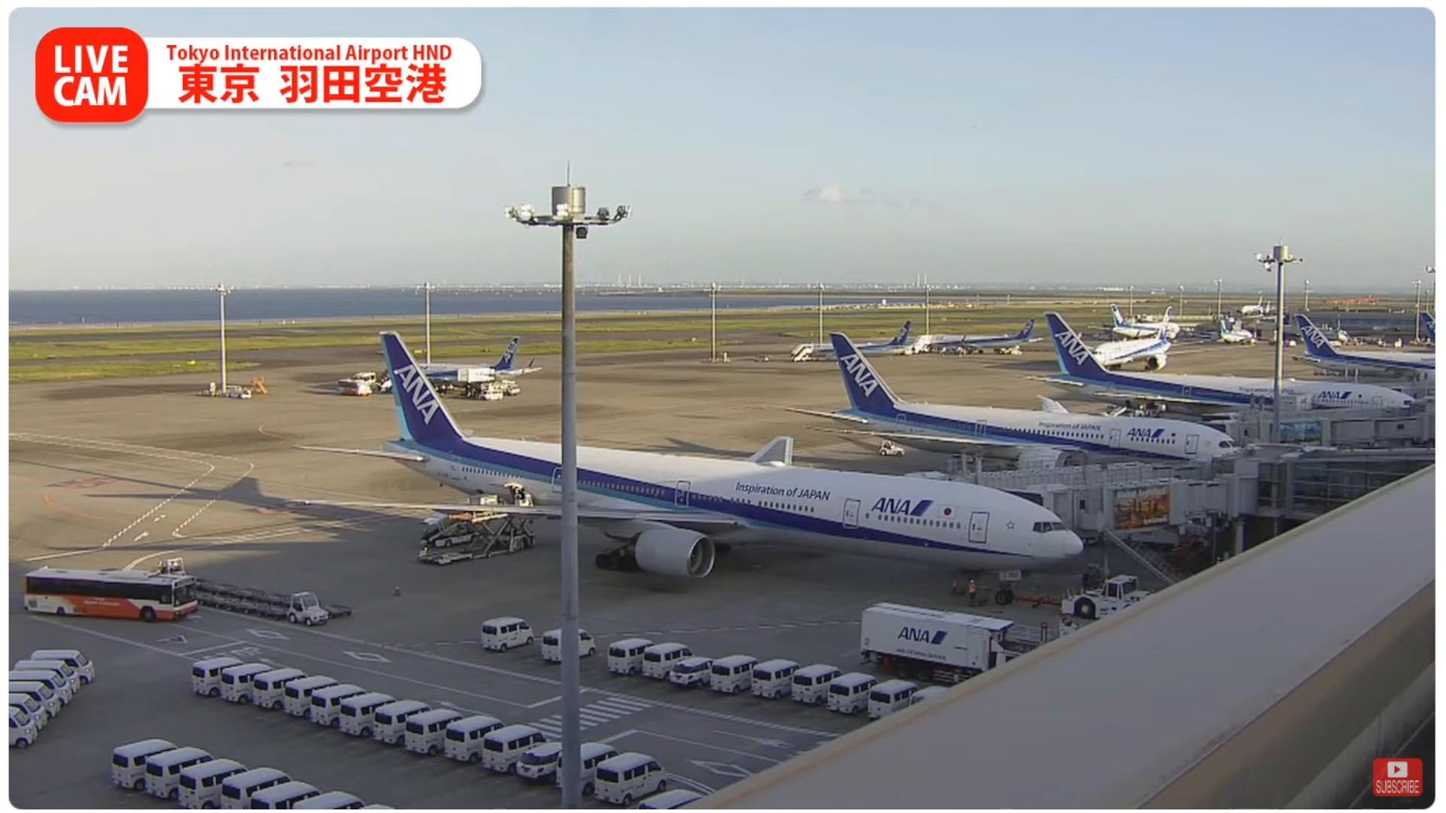APS: (1058, 574, 1160, 620)
Aerobridge: (990, 474, 1217, 523), (903, 458, 1204, 486)
Airplane: (290, 334, 1076, 584)
Catering: (861, 599, 1076, 686)
Dolly: (178, 574, 356, 622), (198, 591, 292, 624)
JCPL: (417, 509, 534, 566)
Skyloader: (424, 510, 487, 546)
Tractor: (286, 589, 330, 627), (150, 556, 190, 584)
Window: (1253, 443, 1435, 520)
